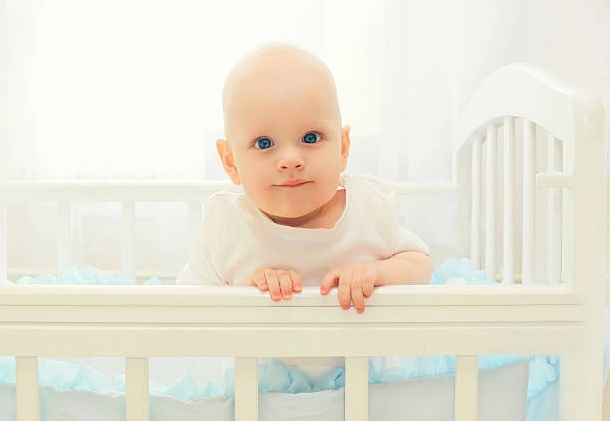baby: (177, 45, 431, 312)
crib: (0, 64, 605, 420)
